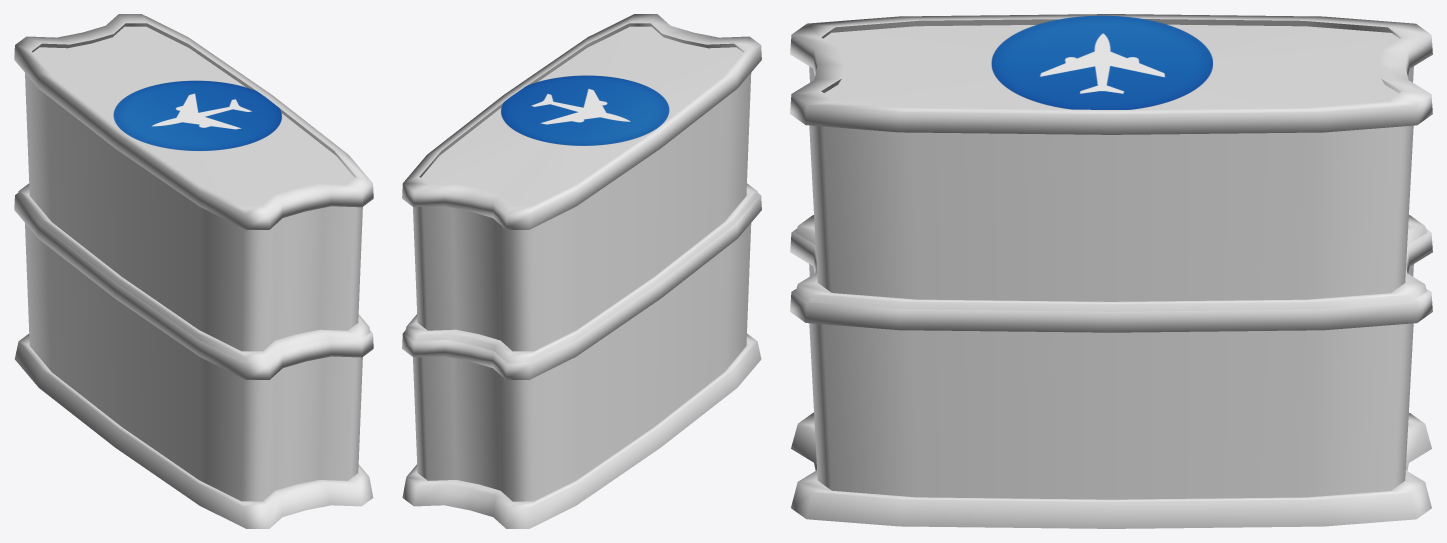
File: tenth building.glb
The picture shows the model from 3 angles, left to right: view 1: azimuth 30°, elevation 25°; view 2: azimuth 150°, elevation 25°; view 3: azimuth 270°, elevation 25°; orthographic projection. The views are drawn at different scales.
Visible parts, largest first — view 1: Downtown Center City.001, similar-icons-with-these-tags-plane-flight-weibo-hotel-icon-; view 2: Downtown Center City.001, similar-icons-with-these-tags-plane-flight-weibo-hotel-icon-; view 3: Downtown Center City.001, similar-icons-with-these-tags-plane-flight-weibo-hotel-icon-.
Boxes of the visible parts, left/top/right/bottom form: Downtown Center City.001: left=14, top=14, right=373, bottom=528; similar-icons-with-these-tags-plane-flight-weibo-hotel-icon-: left=113, top=80, right=281, bottom=150; Downtown Center City.001: left=402, top=14, right=761, bottom=528; similar-icons-with-these-tags-plane-flight-weibo-hotel-icon-: left=501, top=75, right=669, bottom=145; Downtown Center City.001: left=790, top=14, right=1432, bottom=528; similar-icons-with-these-tags-plane-flight-weibo-hotel-icon-: left=991, top=15, right=1212, bottom=109.
Bounding box in the file's own units: 2.71 × 5.2 × 7.28.
5 materials, 1 textured.
